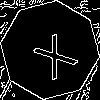X: (25, 25, 79, 81)
